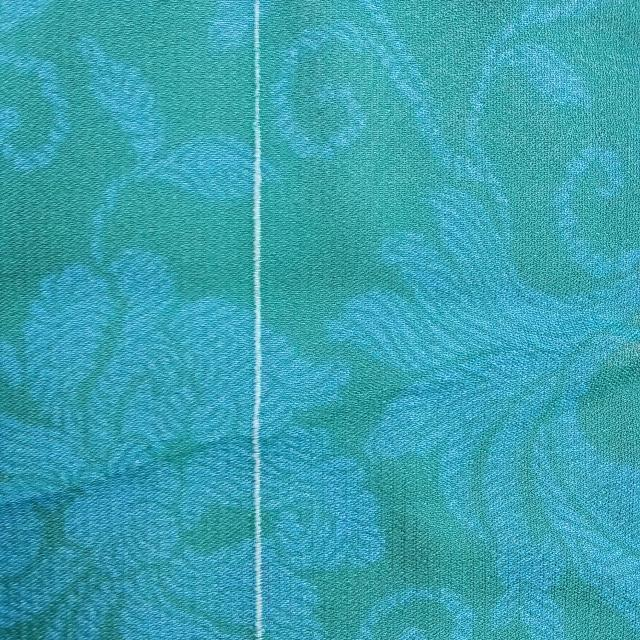pulled_or_thick_thread: (249, 0, 267, 640)
